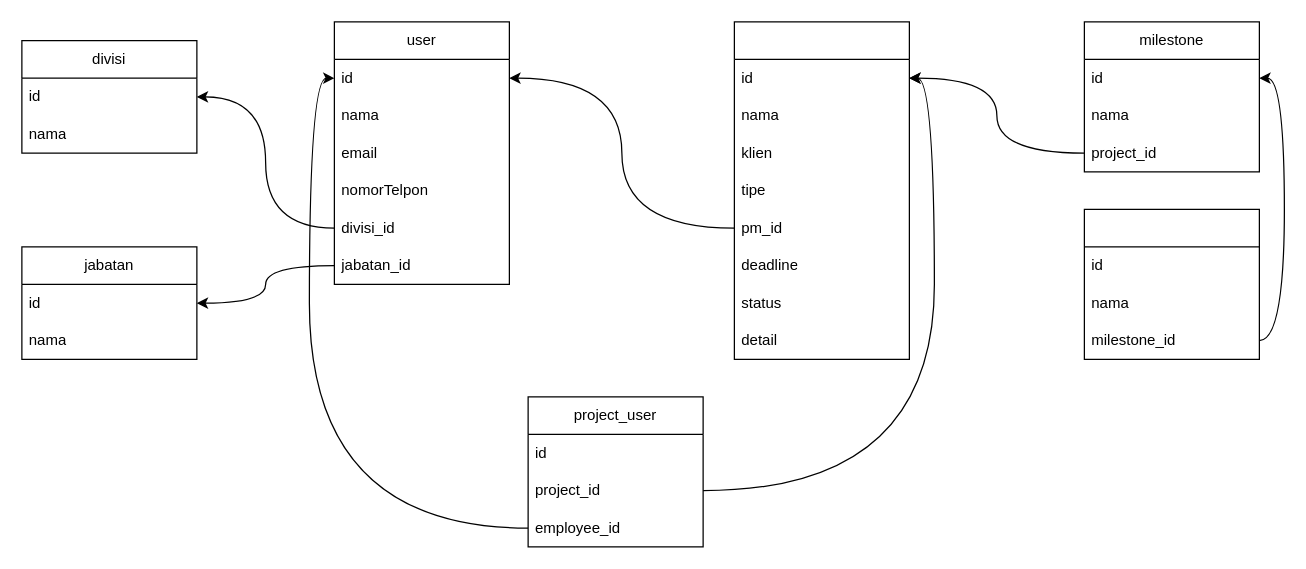
This 1306x569 diagram has some shape labels left out. Here are the shapes that lost their labels. From the top down, the box of each, then its label:
(733, 21, 909, 359): project
(1083, 208, 1259, 359): task
